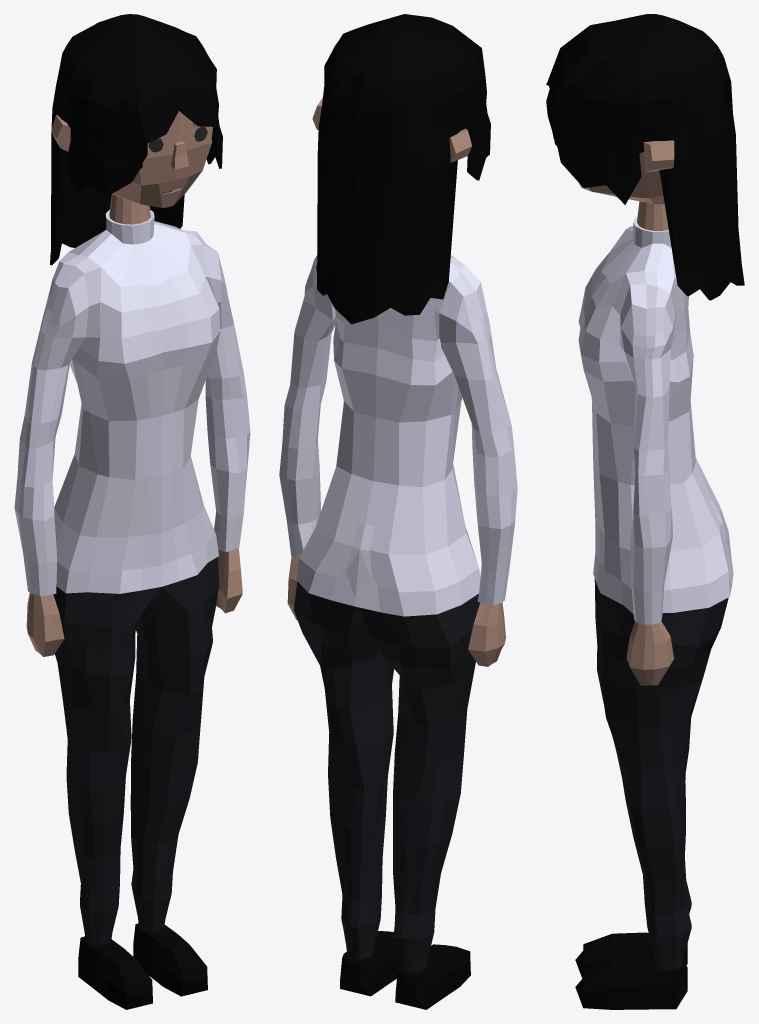
File: npcfemale2.fbx
The picture shows the model from 3 angles, left to right: view 1: azimuth 30°, elevation 25°; view 2: azimuth 150°, elevation 25°; view 3: azimuth 270°, elevation 25°; orthographic projection.
Parts seen in each view (by area): view 1: Cylinder.001; view 2: Cylinder.001; view 3: Cylinder.001.
Part boxes in pixels (x1,y1,x2,y2): Cylinder.001: [14, 14, 250, 1009]; Cylinder.001: [279, 14, 517, 1009]; Cylinder.001: [546, 14, 744, 1009].
Size of the model in its own units: 36.17 by 146 by 27.2.
